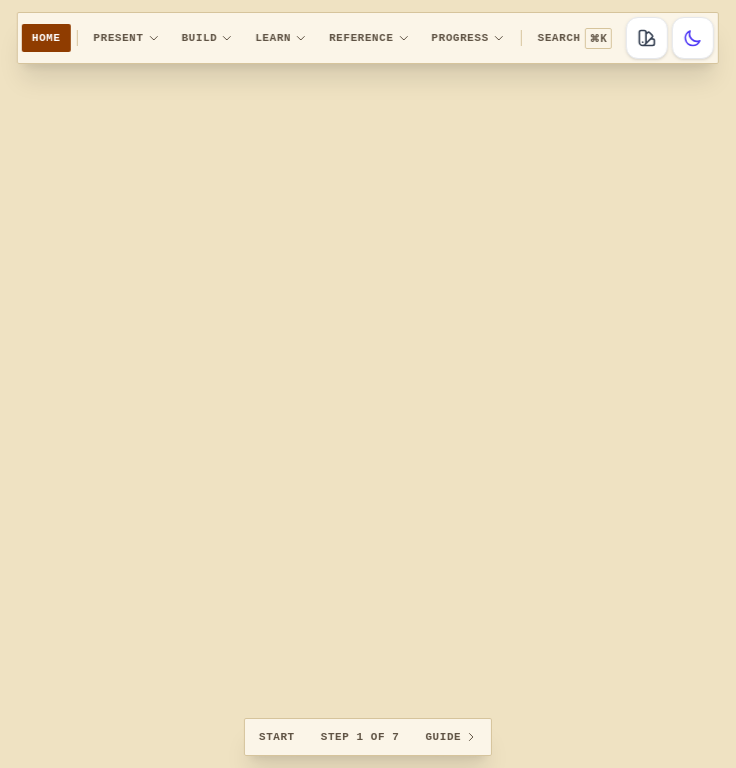
Test: app bar › reveals a section's routes on click, and only that section's
This screenshot has width=736, height=768.
Click the button "Present": [126, 38] box [83,24,170,52]
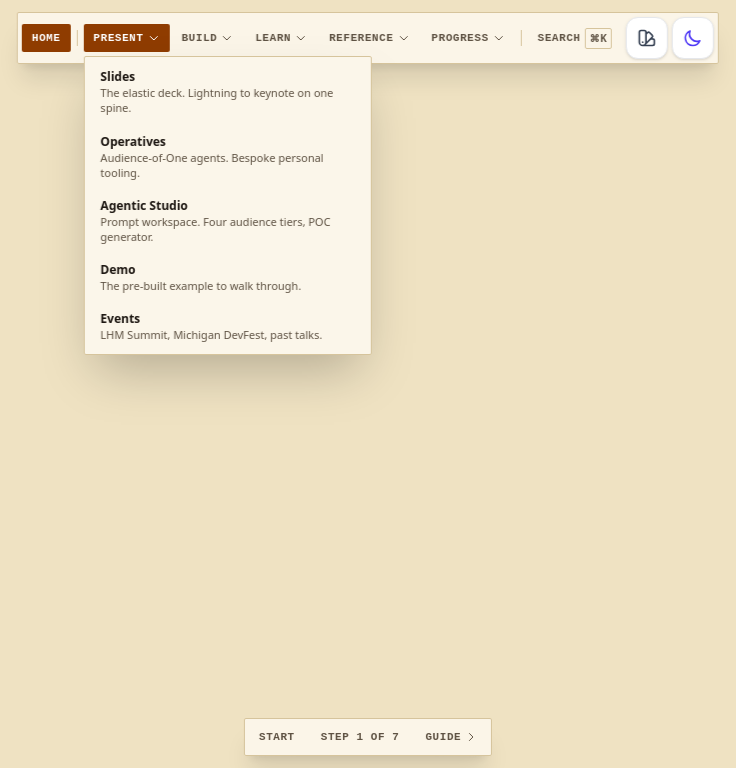
Expected: the link "Slides The elastic deck. Lightning to keynote on one spine." is shown, [100,68,333,115]
Expected: the link "Operatives Audience-of-One agents. Bespoke personal tooling." is shown, [100,132,324,180]
Expected: the link "Agentic Studio" is shown, [100,197,330,244]
